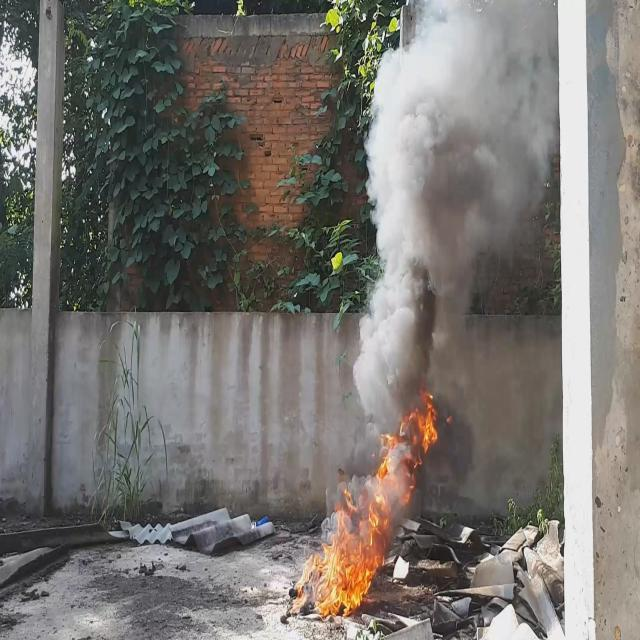Fire: (313, 400, 438, 620)
Smoke: (351, 0, 561, 433)
